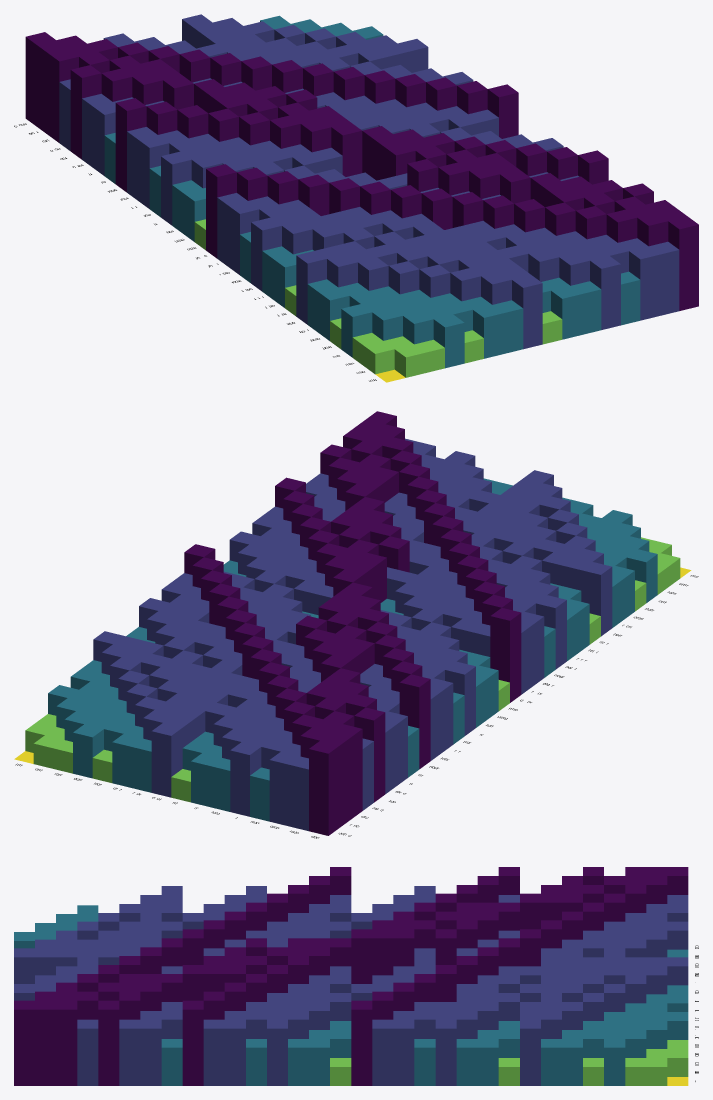
3 views of the same model, one above another, from view 1: azimuth 30°, elevation 25°; view 2: azimuth 150°, elevation 25°; view 3: azimuth 270°, elevation 25° (orthographic). The views are drawn at different scales.
Parts seen in each view (by area): view 1: Object(16,32)[length_4], Object(14,32)[length_3], Object(8,32)[length_3], Object(12,32)[length_3], Object(1,9)[length_4], Object(1,5)[length_4], Object(1,17)[length_4], Object(1,3)[length_4], Object(15,32)[length_3], Object(1,21)[length_3], Object(1,13)[length_3], Object(1,25)[length_3] (+86 smaller); view 2: Object(1,1)[length_4], Object(1,17)[length_4], Object(9,1)[length_3], Object(1,9)[length_4], Object(1,25)[length_3], Object(5,1)[length_3], Object(1,5)[length_4], Object(3,1)[length_3], Object(2,1)[length_3], Object(1,13)[length_3], Object(1,21)[length_3], Object(13,1)[length_2] (+24 smaller); view 3: Object(16,16)[length_4], Object(16,24)[length_4], Object(16,28)[length_4], Object(16,30)[length_4], Object(16,31)[length_4], Object(16,32)[length_4], Object(16,26)[length_3], Object(16,12)[length_3], Object(16,14)[length_3], Object(16,15)[length_3], Object(16,22)[length_3], Object(16,23)[length_3] (+137 smaller).
Part boxes in pixels (x1,y1,x2,y2): Object(16,32)[length_4]: [668, 216, 698, 310]; Object(14,32)[length_3]: [629, 246, 659, 320]; Object(8,32)[length_3]: [512, 275, 542, 349]; Object(12,32)[length_3]: [590, 256, 620, 329]; Object(1,9)[length_4]: [115, 98, 146, 192]; Object(1,5)[length_4]: [70, 65, 101, 159]; Object(1,17)[length_4]: [206, 164, 236, 258]; Object(1,3)[length_4]: [48, 48, 78, 142]; Object(15,32)[length_3]: [649, 241, 679, 315]; Object(1,21)[length_3]: [251, 217, 281, 291]; Object(1,13)[length_3]: [161, 151, 191, 225]; Object(1,25)[length_3]: [296, 250, 326, 324]; Object(1,1)[length_4]: [309, 740, 339, 835]; Object(1,17)[length_4]: [490, 608, 521, 702]; Object(9,1)[length_3]: [151, 723, 182, 797]; Object(1,9)[length_4]: [399, 674, 430, 769]; Object(1,25)[length_3]: [581, 562, 612, 636]; Object(5,1)[length_3]: [230, 742, 261, 816]; Object(1,5)[length_4]: [354, 707, 385, 802]; Object(3,1)[length_3]: [269, 751, 300, 826]; Object(2,1)[length_3]: [289, 756, 308, 831]; Object(1,13)[length_3]: [445, 661, 475, 735]; Object(1,21)[length_3]: [536, 595, 566, 669]; Object(13,1)[length_2]: [73, 724, 103, 778]; Object(16,16)[length_4]: [351, 1000, 372, 1085]; Object(16,24)[length_4]: [182, 1000, 203, 1085]; Object(16,28)[length_4]: [98, 1000, 119, 1085]; Object(16,30)[length_4]: [56, 1000, 77, 1085]; Object(16,31)[length_4]: [35, 1000, 55, 1085]; Object(16,32)[length_4]: [14, 1000, 34, 1085]; Object(16,26)[length_3]: [140, 1019, 161, 1085]; Object(16,12)[length_3]: [435, 1019, 456, 1085]; Object(16,14)[length_3]: [393, 1019, 414, 1085]; Object(16,15)[length_3]: [372, 1019, 393, 1085]; Object(16,22)[length_3]: [224, 1019, 245, 1085]; Object(16,23)[length_3]: [203, 1019, 224, 1085].
Size of the model in its own units: 16.85 by 4 by 32.5.
